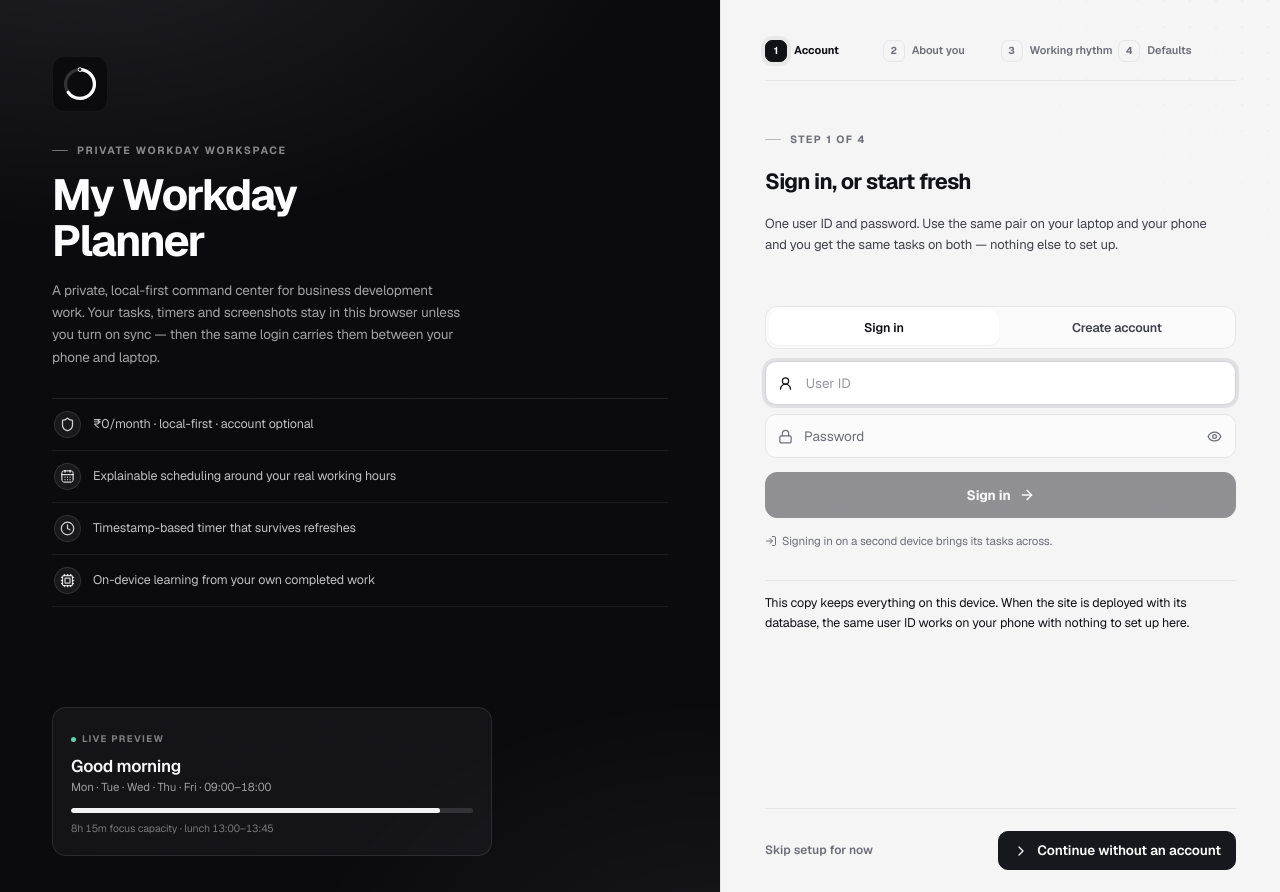
Scenario: Onboarding — account step › asks for role and company while signing up, and then stops asking
The width and height of the screenshot is (1280, 892).
Click the tab "Create account". click: (1117,328)
box: x1=1002 y1=310 x2=1232 y2=345
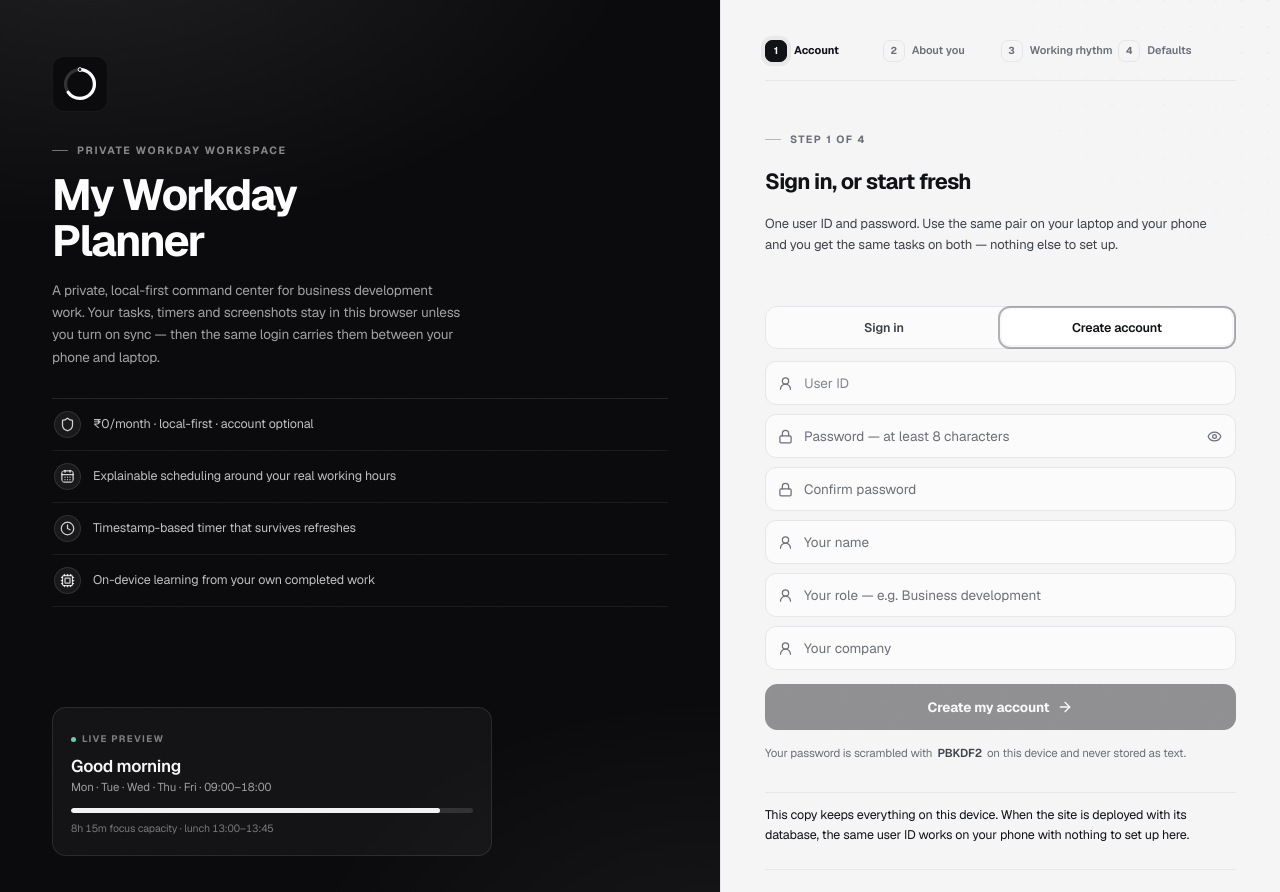
Type "lakshit" into the field labelled "User ID". click: (1000,383)
box: x1=765 y1=361 x2=1236 y2=405
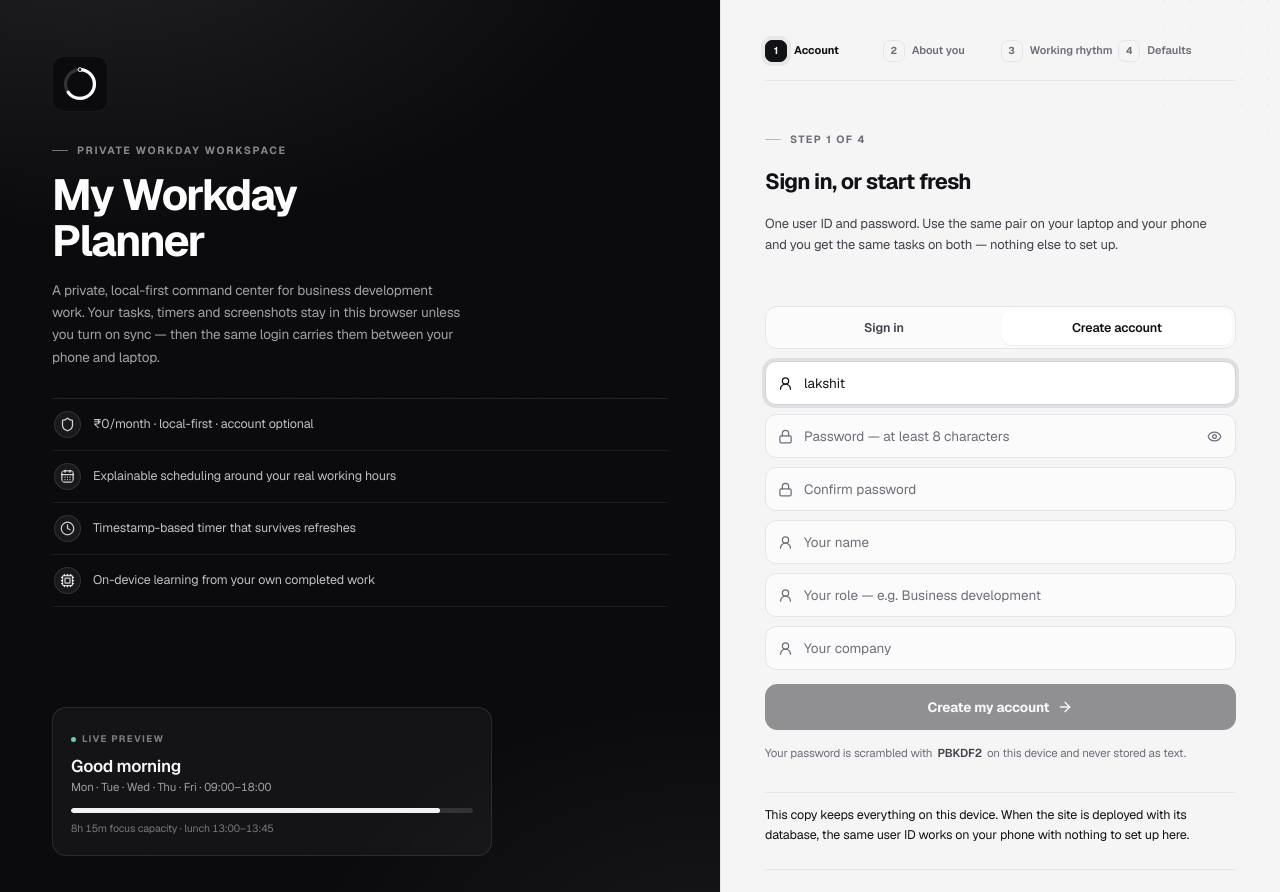
Type "open sesame 72" into the password field labelled "Password". click: (1000,436)
box: x1=765 y1=414 x2=1236 y2=458
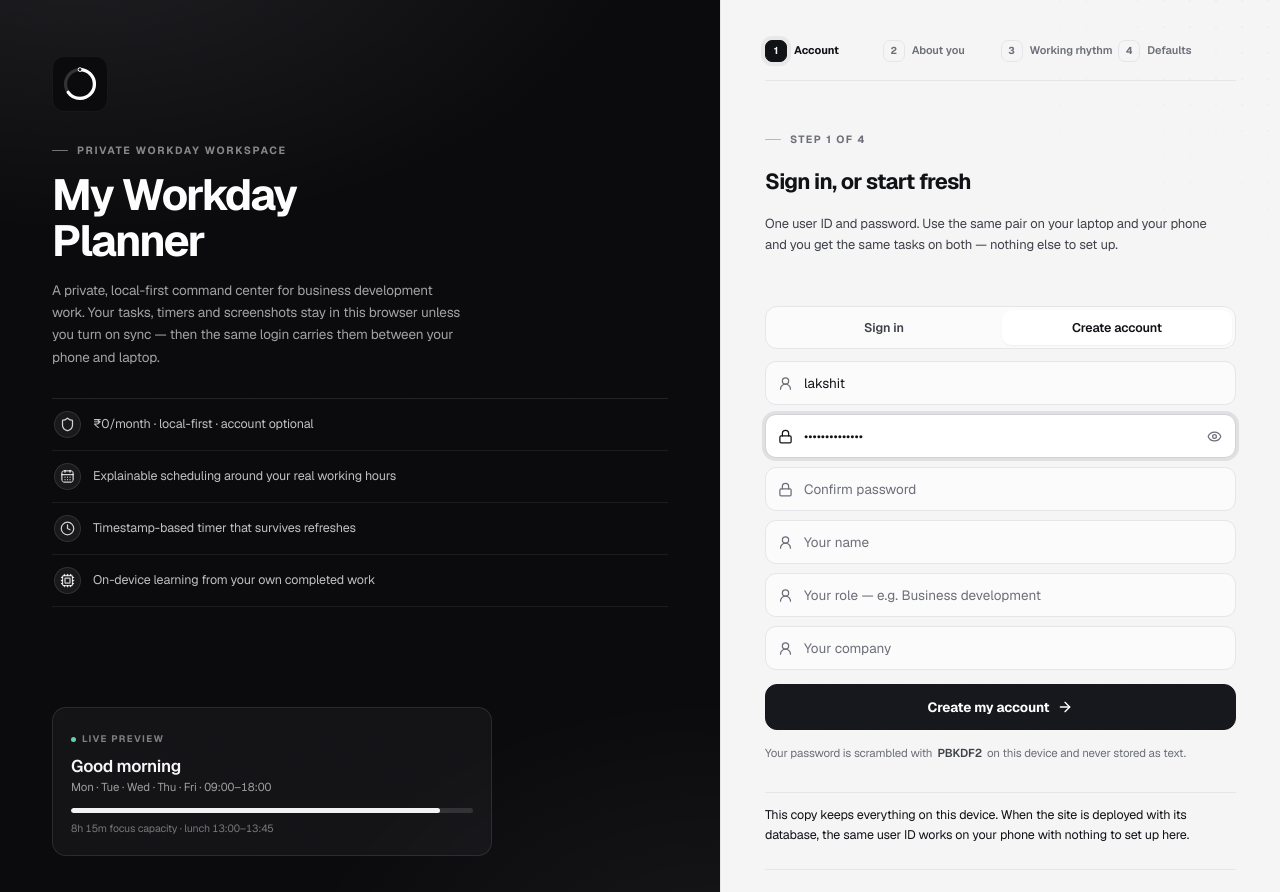
Type "open sesame 72" into the password field labelled "Confirm password". click: (1000,489)
box: x1=765 y1=467 x2=1236 y2=511
Type "Lakshit Rao" into the field labelled "Your name". click: (1000,542)
box: x1=765 y1=520 x2=1236 y2=564
Type "Business development" into the field labelled "Your role". click: (1000,595)
box: x1=765 y1=573 x2=1236 y2=617
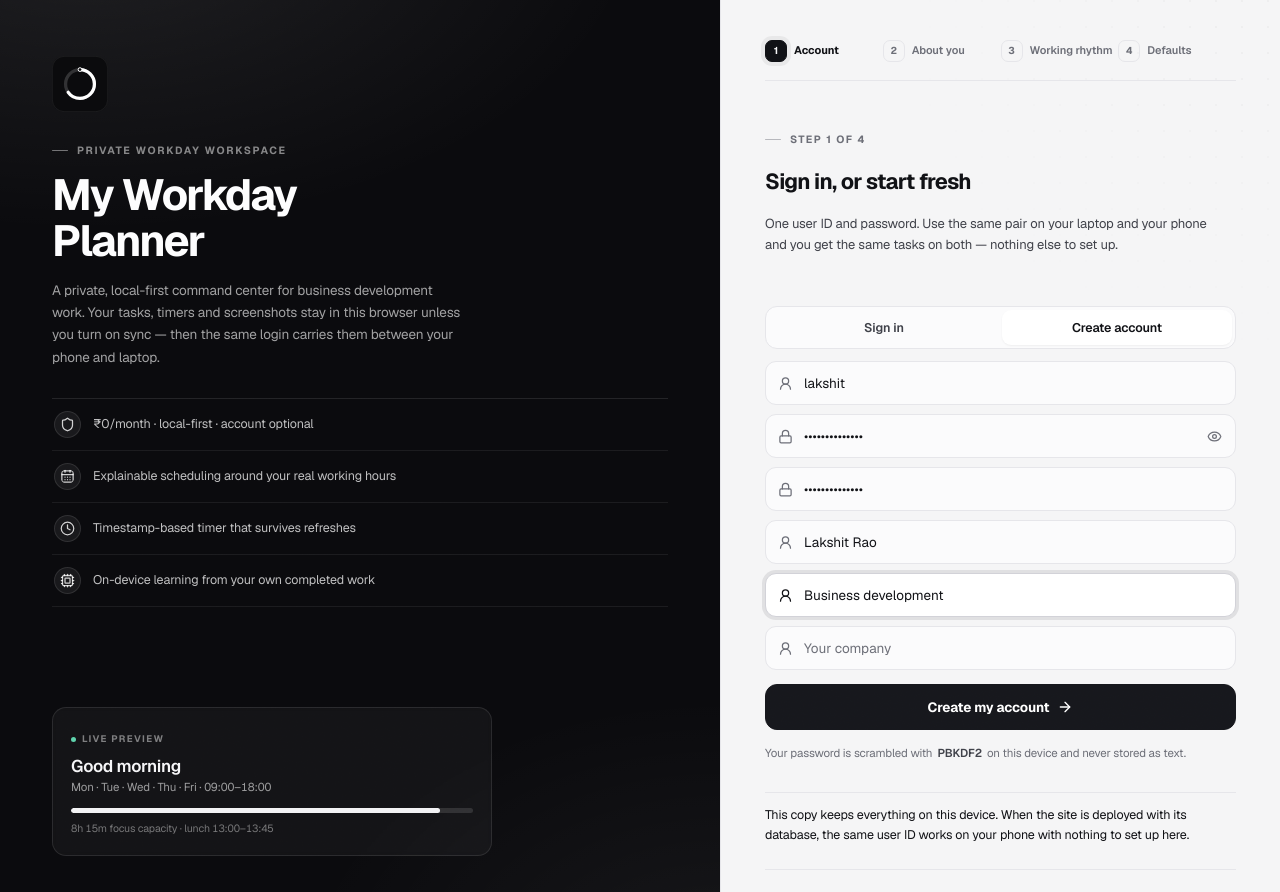
Type "Acme" into the field labelled "Your company". click: (1000,648)
box: x1=765 y1=626 x2=1236 y2=670
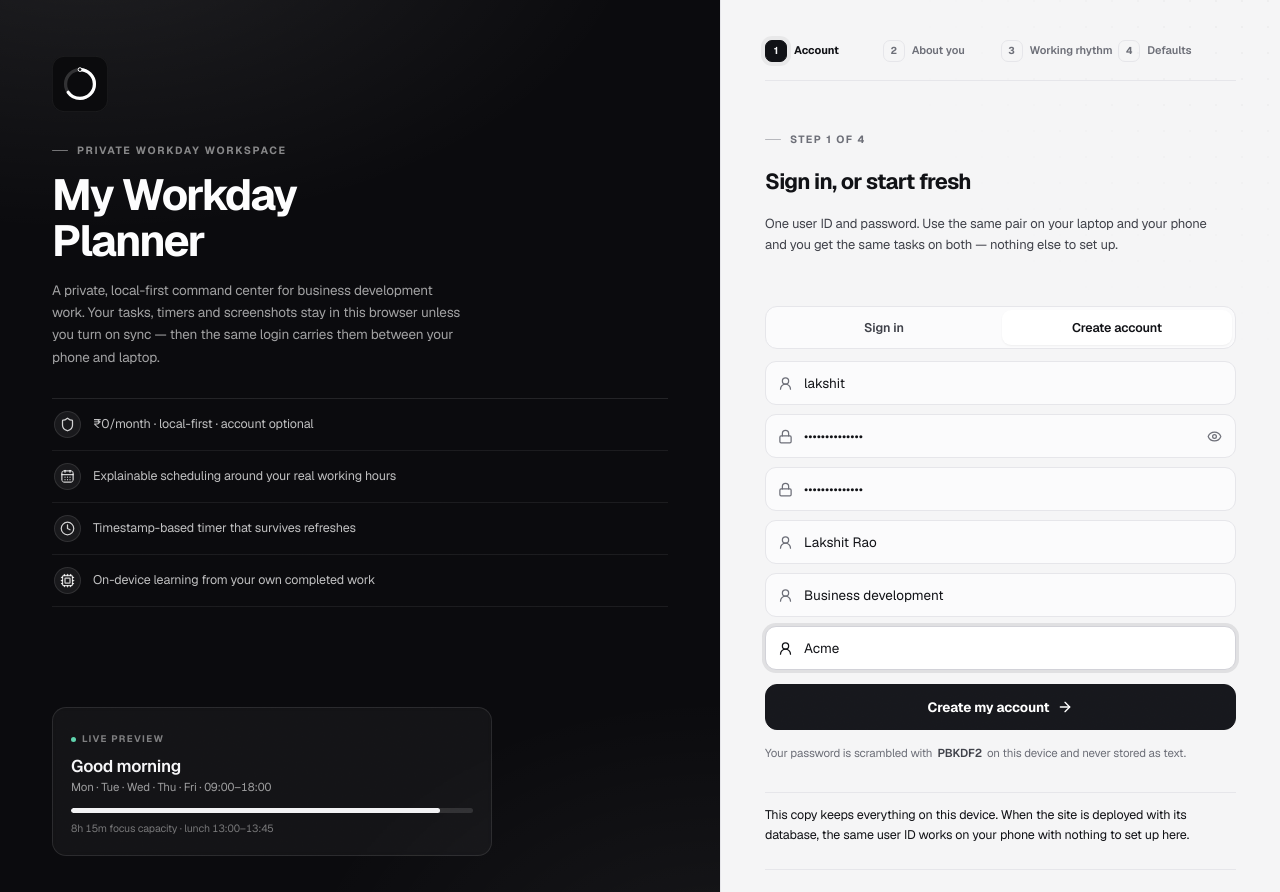
Click the button "Create my account". click: (1000,707)
box: x1=765 y1=684 x2=1236 y2=730
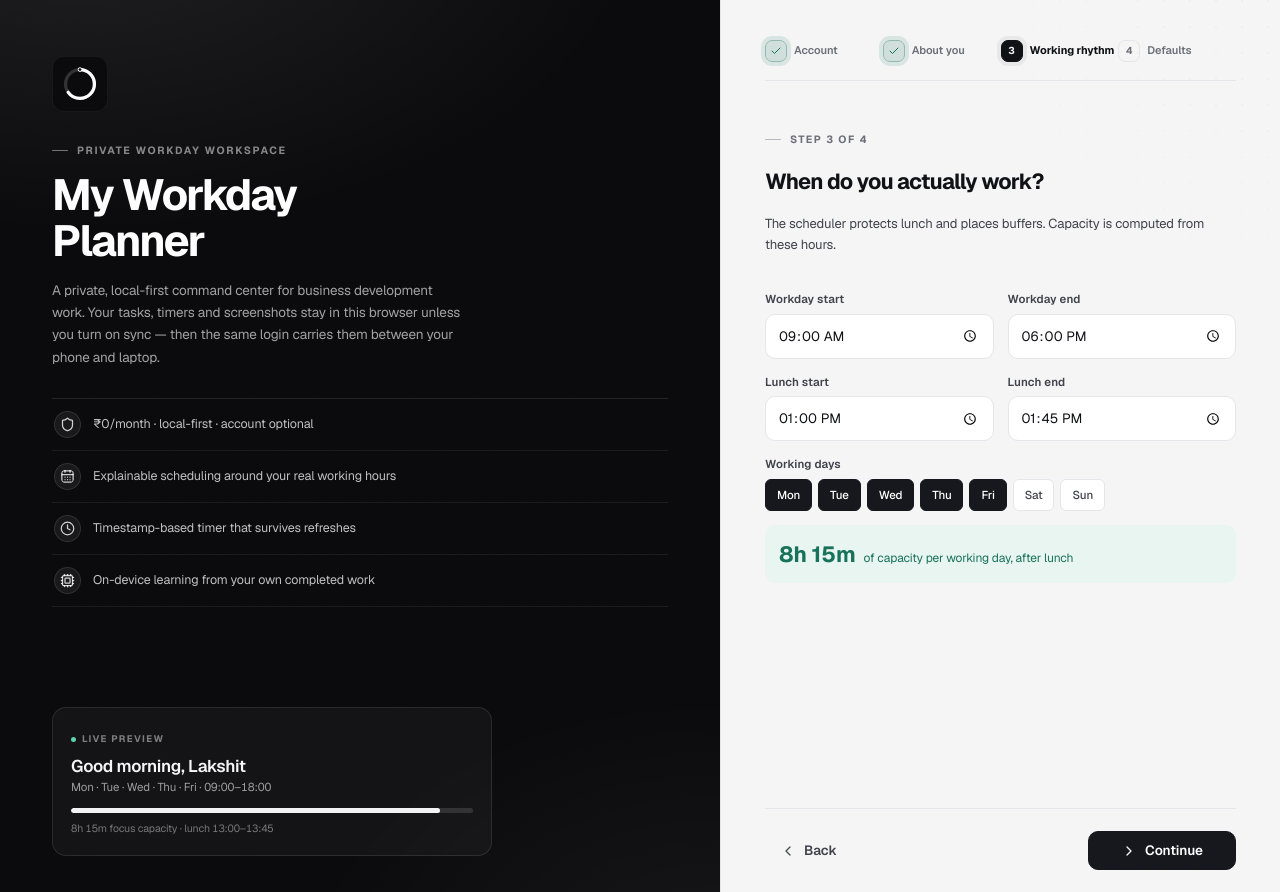
Now the text "Step 3 of 4" is shown, box x1=790 y1=132 x2=868 y2=146
